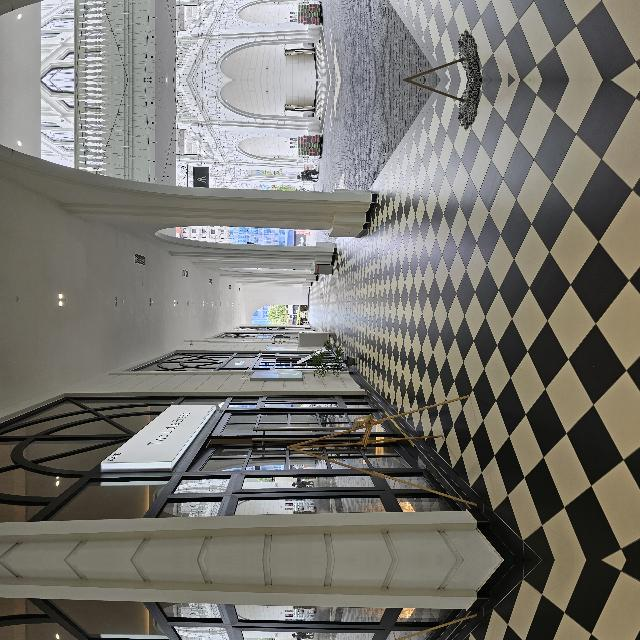obstacle: (52, 362, 170, 554), (52, 566, 170, 640)
